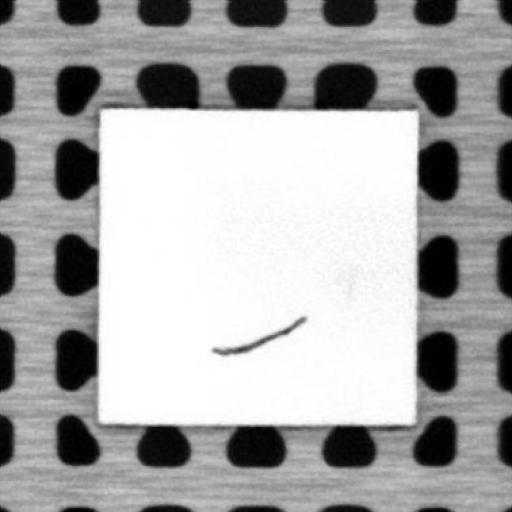DIE_INK: (212, 315, 312, 355)
